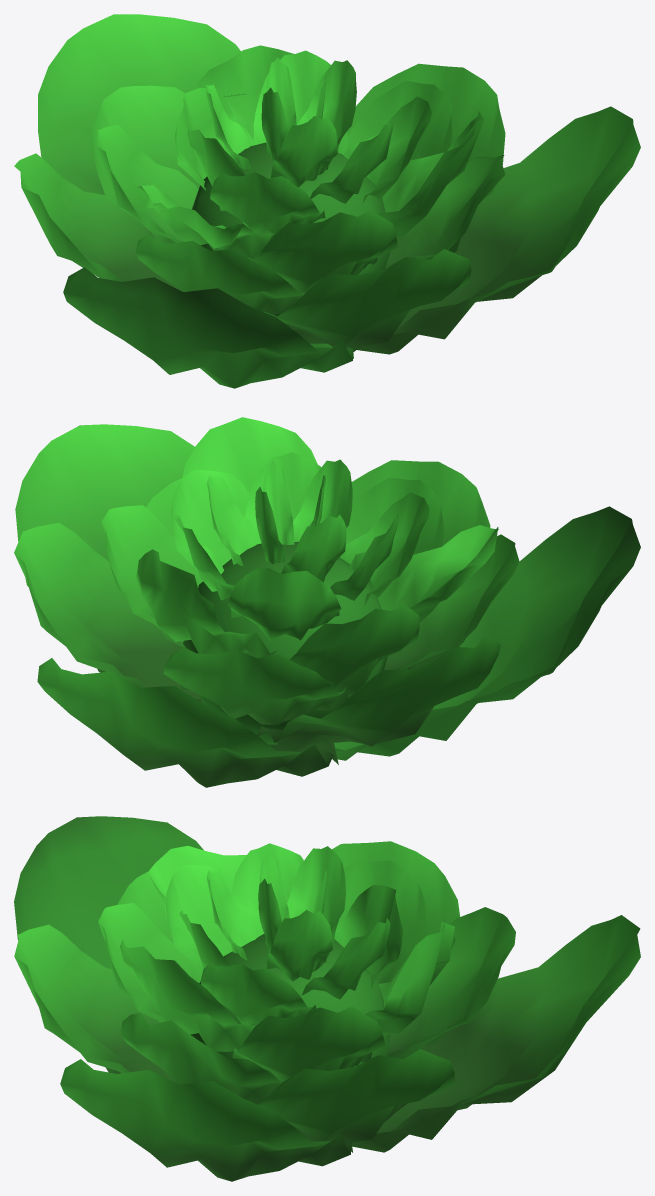
File: Lettuce.fbx
The picture shows the model from 3 angles, top to bottom: view 1: azimuth 30°, elevation 25°; view 2: azimuth 150°, elevation 25°; view 3: azimuth 270°, elevation 25°; orthographic projection.
Parts seen in each view (by area): view 1: Lettuce; view 2: Lettuce; view 3: Lettuce.
Boxes of the visible parts, box(x1,y1,x2,y2) form: Lettuce: box(14, 14, 640, 388); Lettuce: box(14, 417, 640, 787); Lettuce: box(14, 816, 640, 1181).
Size of the model in its own units: 322 by 332 by 155.
1 material, 1 textured.
